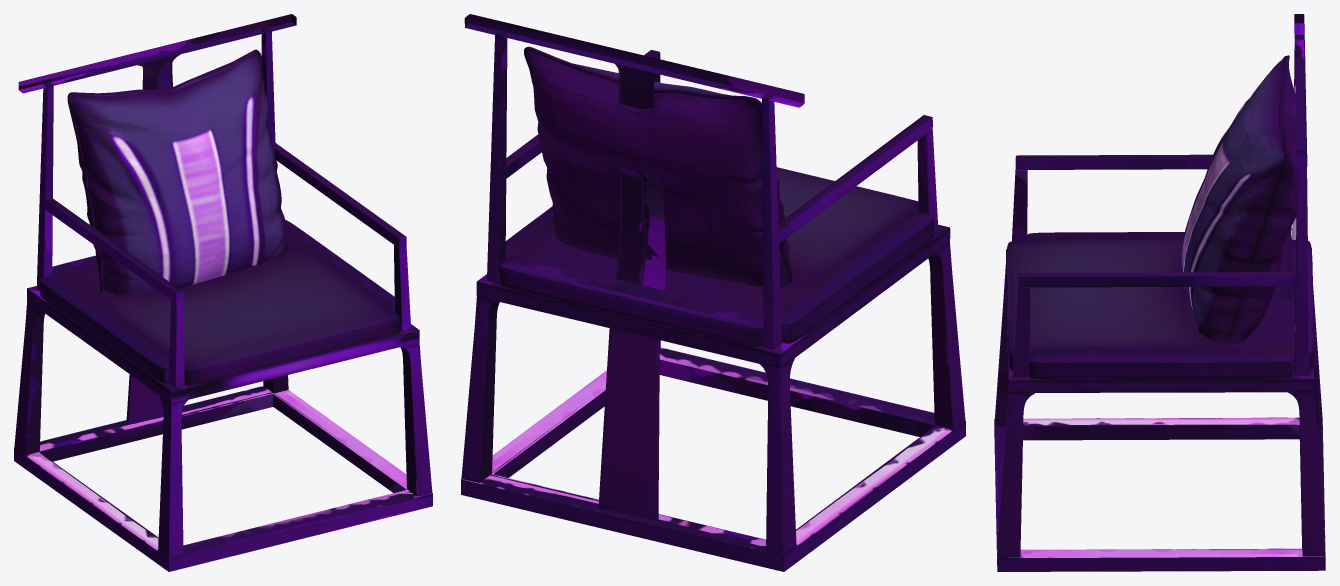
Rendered from edited_mesh.glb.
3 renders of one model, left to right at view 1: azimuth 30°, elevation 25°; view 2: azimuth 150°, elevation 25°; view 3: azimuth 270°, elevation 25°, orthographic. The views are drawn at different scales.
Visible parts, largest first — view 1: solid_001_wire; view 2: solid_001_wire; view 3: solid_001_wire.
Boxes of the visible parts, left/top/right/bottom form: solid_001_wire: left=14, top=14, right=432, bottom=571; solid_001_wire: left=461, top=14, right=965, bottom=571; solid_001_wire: left=994, top=14, right=1325, bottom=571.
Size of the model in its own units: 1.08 by 1.46 by 1.05.
Materials: 1 (1 with a texture image).
